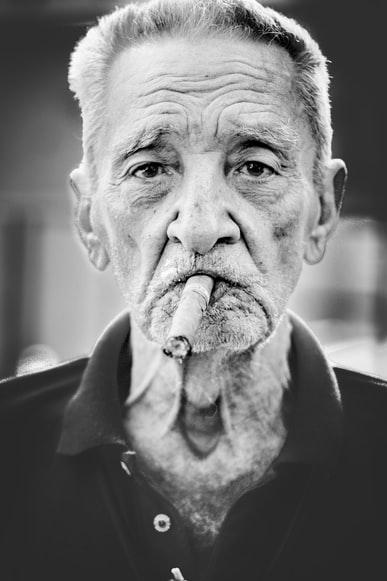Wrinkles: (215, 101, 274, 137), (140, 82, 241, 96), (206, 88, 268, 107), (174, 73, 274, 82), (135, 100, 189, 110), (141, 73, 174, 84), (222, 60, 262, 68), (180, 106, 189, 139), (137, 112, 176, 119), (242, 110, 281, 114), (166, 76, 191, 76)
